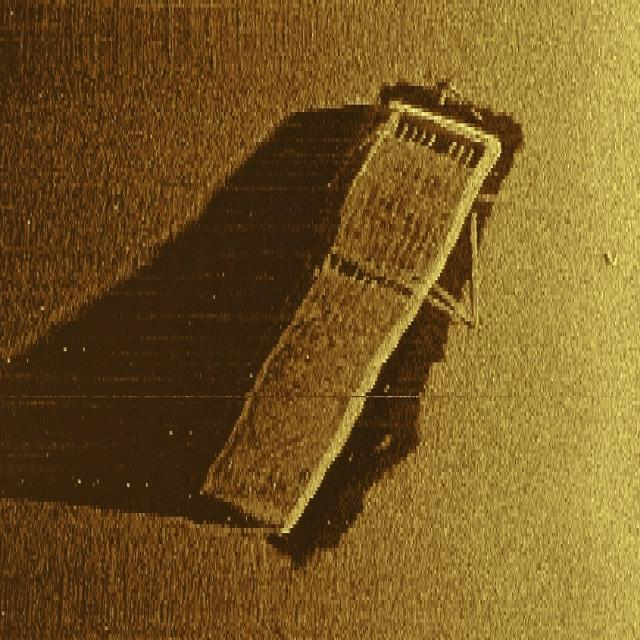ship: (200, 95, 501, 538)
